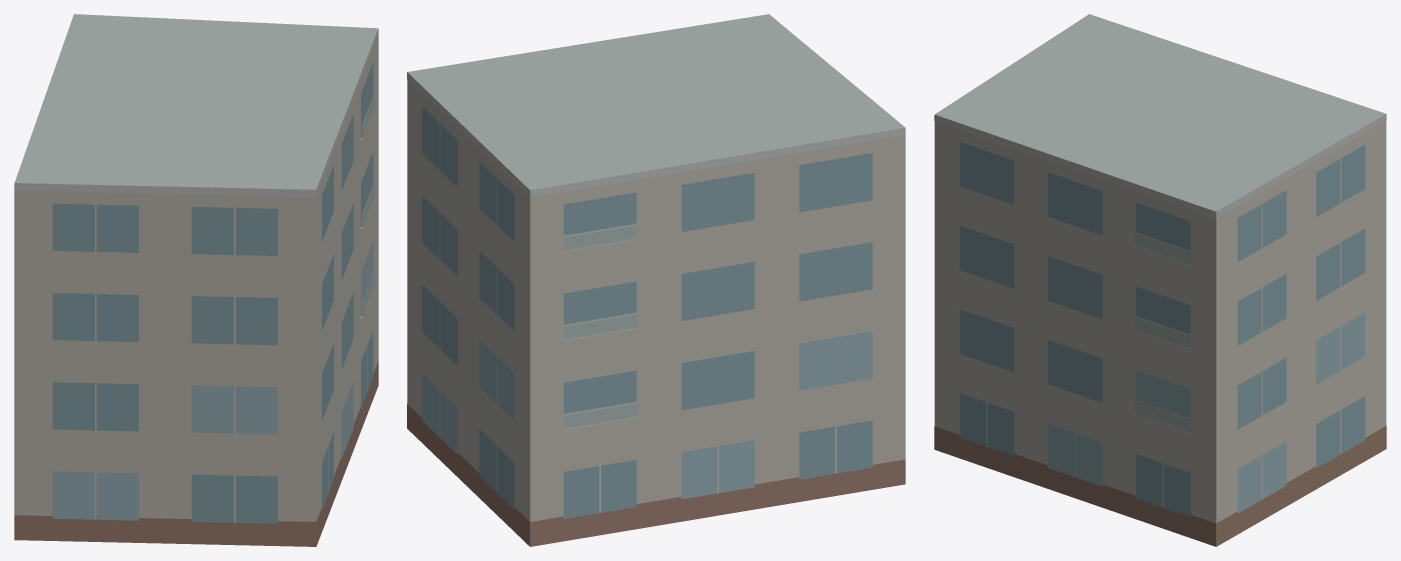
The model's file is survey-upis-32972941.glb.
The picture shows the model from 3 angles, left to right: view 1: azimuth 30°, elevation 25°; view 2: azimuth 150°, elevation 25°; view 3: azimuth 270°, elevation 25°; orthographic projection. The views are drawn at different scales.
Parts seen in each view (by area): view 1: survey-upis-32972941.tmp; view 2: survey-upis-32972941.tmp; view 3: survey-upis-32972941.tmp.
Part boxes in pixels (x1,y1,x2,y2): survey-upis-32972941.tmp: (14, 14, 378, 546); survey-upis-32972941.tmp: (407, 14, 905, 546); survey-upis-32972941.tmp: (934, 14, 1386, 546).
Bounding box in the file's own units: 15 × 11.85 × 14.49.
